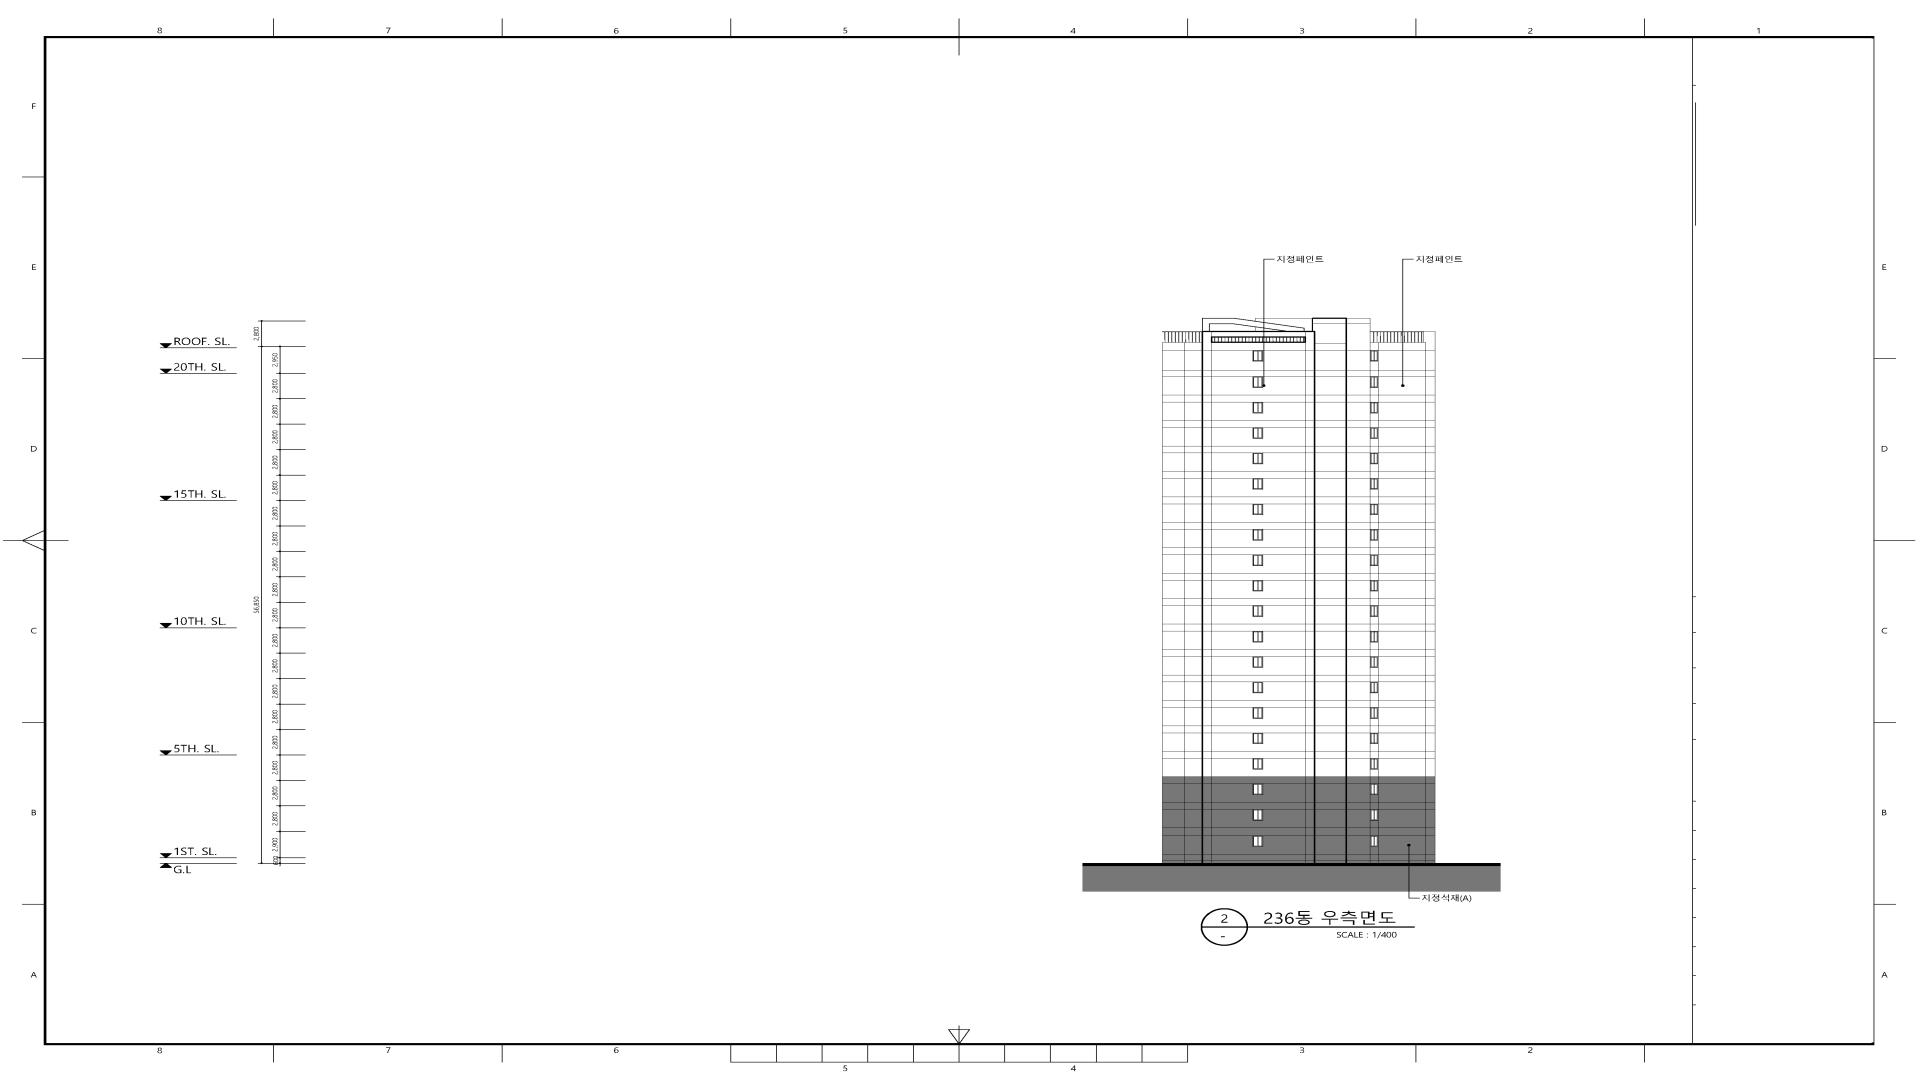wall: (1162, 318, 1435, 864)
window: (1211, 336, 1305, 343), (1253, 376, 1263, 388), (1253, 402, 1263, 414), (1253, 427, 1263, 439), (1253, 452, 1263, 464), (1253, 504, 1263, 516), (1253, 529, 1263, 541), (1253, 605, 1263, 617), (1253, 682, 1263, 694), (1253, 707, 1263, 719), (1253, 783, 1263, 795), (1253, 351, 1263, 361), (1253, 479, 1263, 489), (1253, 555, 1263, 566), (1253, 580, 1263, 591), (1253, 632, 1263, 642), (1253, 657, 1263, 667), (1253, 733, 1263, 744), (1253, 758, 1263, 769), (1253, 810, 1263, 820), (1253, 836, 1263, 847), (1370, 783, 1378, 795), (1370, 758, 1378, 770), (1370, 707, 1378, 719), (1370, 682, 1378, 694), (1370, 605, 1378, 617), (1370, 580, 1378, 592), (1370, 529, 1378, 541), (1370, 504, 1378, 516), (1370, 452, 1378, 464), (1370, 427, 1378, 439), (1370, 836, 1378, 847), (1370, 810, 1378, 820), (1370, 733, 1378, 744), (1370, 657, 1378, 667), (1370, 632, 1378, 642), (1370, 555, 1378, 566), (1370, 479, 1378, 489), (1370, 402, 1378, 413), (1370, 377, 1378, 388), (1370, 351, 1378, 361)
